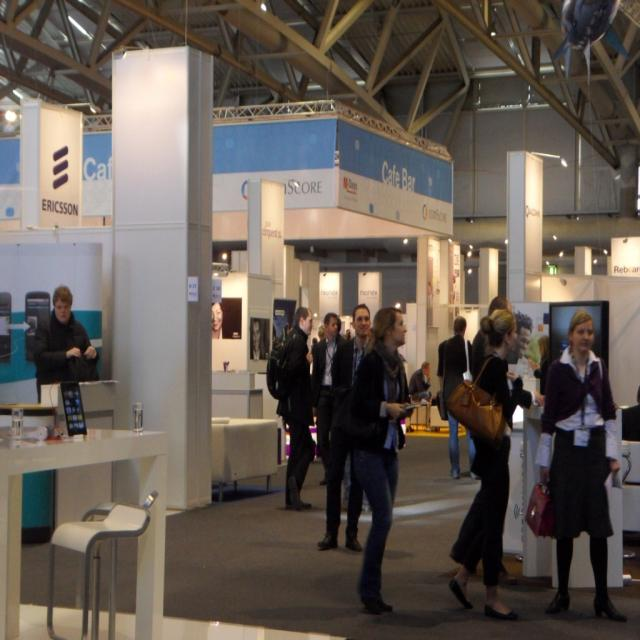chair: (46, 487, 159, 640)
desk: (0, 402, 178, 620)
person: (446, 307, 536, 618), (536, 308, 623, 624), (347, 306, 417, 616), (314, 308, 374, 552), (274, 306, 319, 512), (33, 285, 99, 394), (438, 317, 474, 479), (311, 312, 346, 475)
tv: (550, 302, 610, 368)
